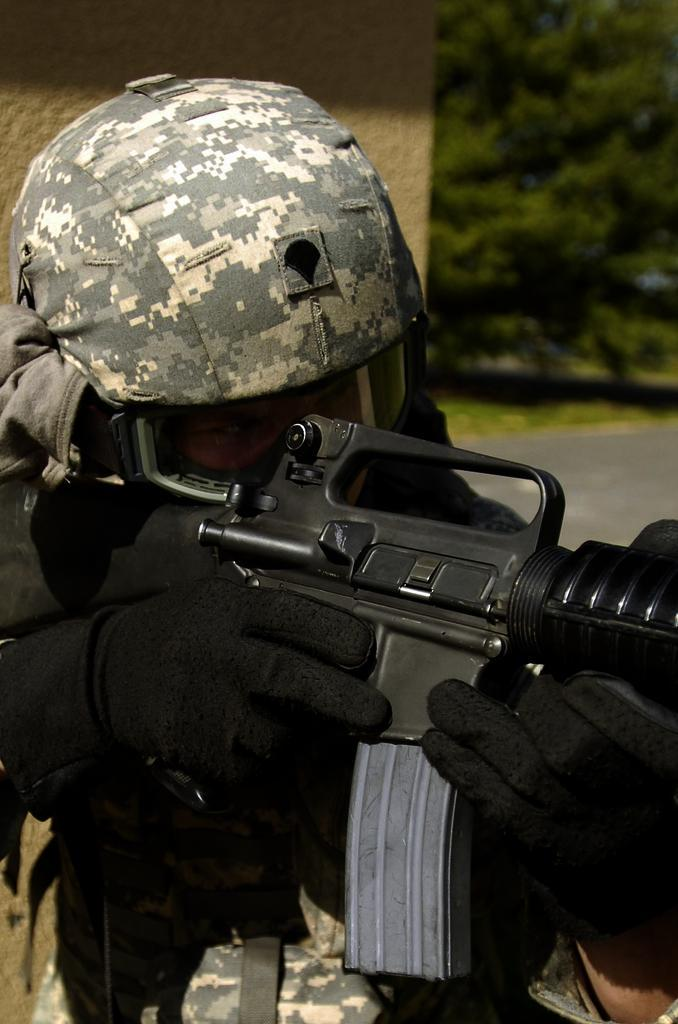gun: (0, 406, 678, 978)
